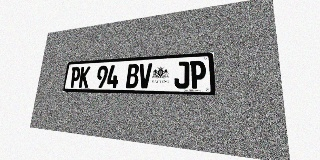4: (106, 65, 119, 88)
9: (96, 65, 108, 88)
B: (126, 64, 139, 88)
J: (174, 61, 189, 89)
K: (78, 66, 91, 88)
P: (190, 60, 206, 89), (69, 67, 81, 88)
V: (138, 63, 152, 88)
